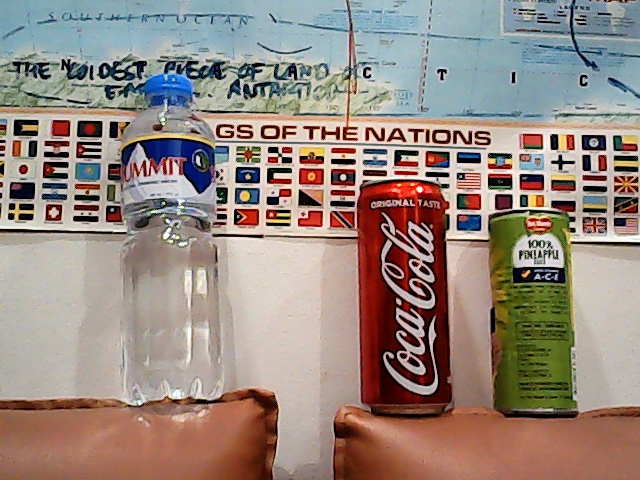Cola: (347, 162, 466, 428)
Pine Juice: (480, 199, 594, 434)
Summit Water: (106, 55, 235, 414)
